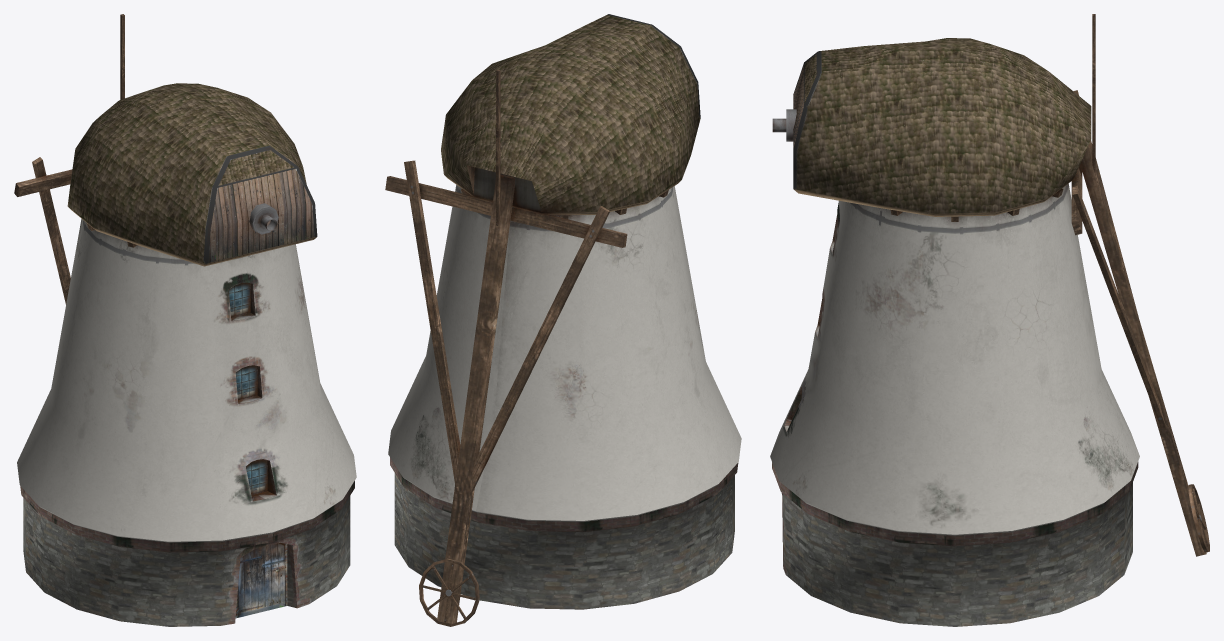
The model's file is windmill.glb.
The picture shows the model from 3 angles, left to right: view 1: azimuth 30°, elevation 25°; view 2: azimuth 150°, elevation 25°; view 3: azimuth 270°, elevation 25°; orthographic projection. The views are drawn at different scales.
Parts seen in each view (by area): view 1: Cylinder011; view 2: Cylinder011; view 3: Cylinder011.
Boxes of the visible parts, x1,y1,x2,y2 form: Cylinder011: (14,14,356,626); Cylinder011: (385,14,741,626); Cylinder011: (770,14,1209,626).
Bounding box in the file's own units: 10.39 × 16.68 × 12.35.
1 material, 1 textured.
